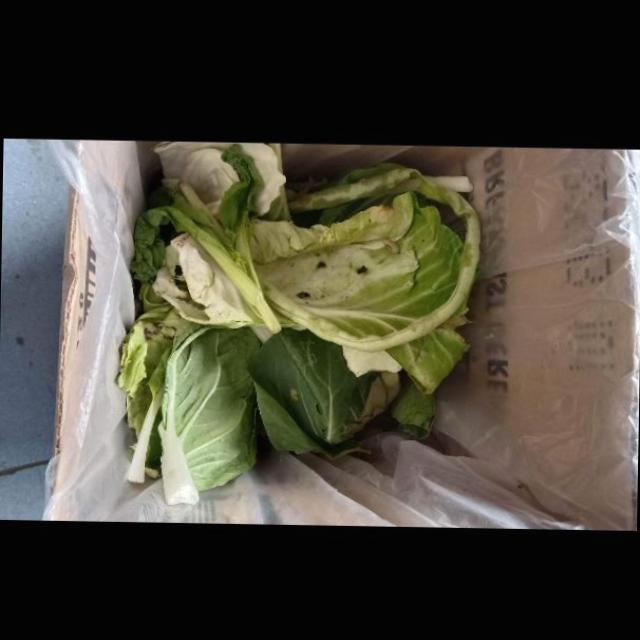vo_rau_cu: (261, 162, 480, 355), (247, 192, 465, 339), (128, 182, 280, 354), (125, 326, 260, 506), (248, 327, 372, 455), (151, 232, 265, 332), (153, 141, 286, 218), (387, 329, 470, 440)
